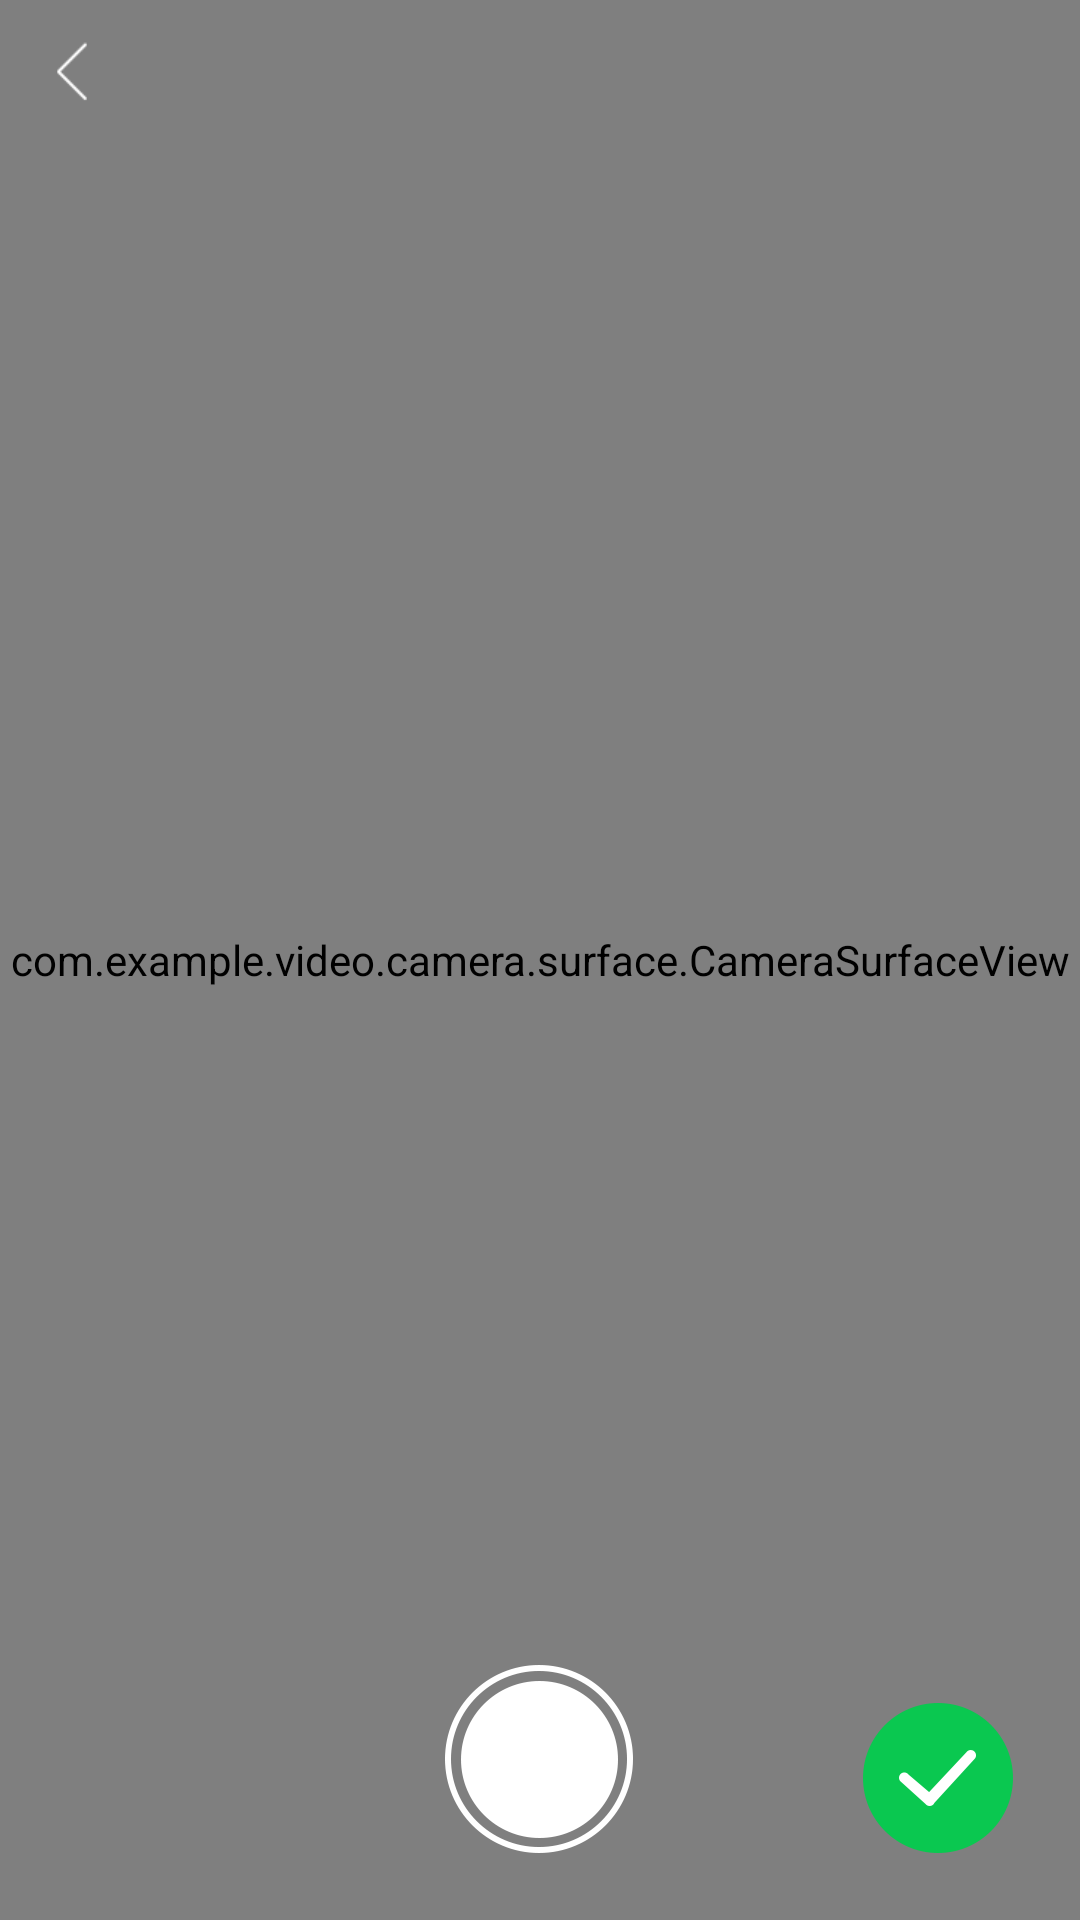

Screen size 1080×1920. Icon name, then its box in pixels as (x1, y1, x2, y2):
back: (57, 43, 87, 100)
camera ok: (863, 1703, 1013, 1853)
